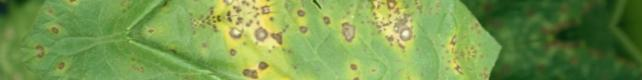Tomato Septoria leaf spot: (0, 0, 506, 80)
